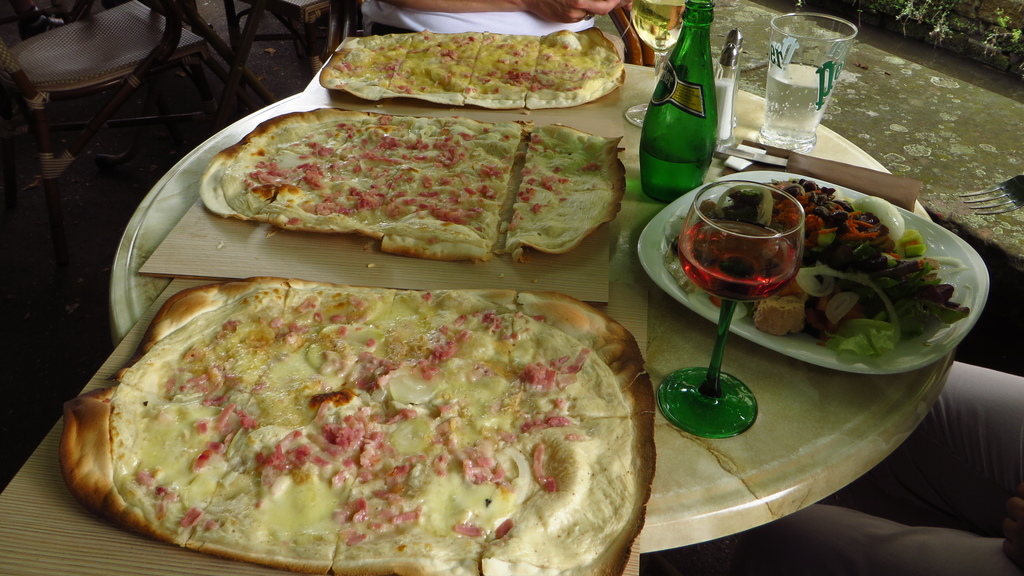Pizza: (26, 264, 645, 576), (199, 104, 624, 261), (316, 25, 624, 104)
